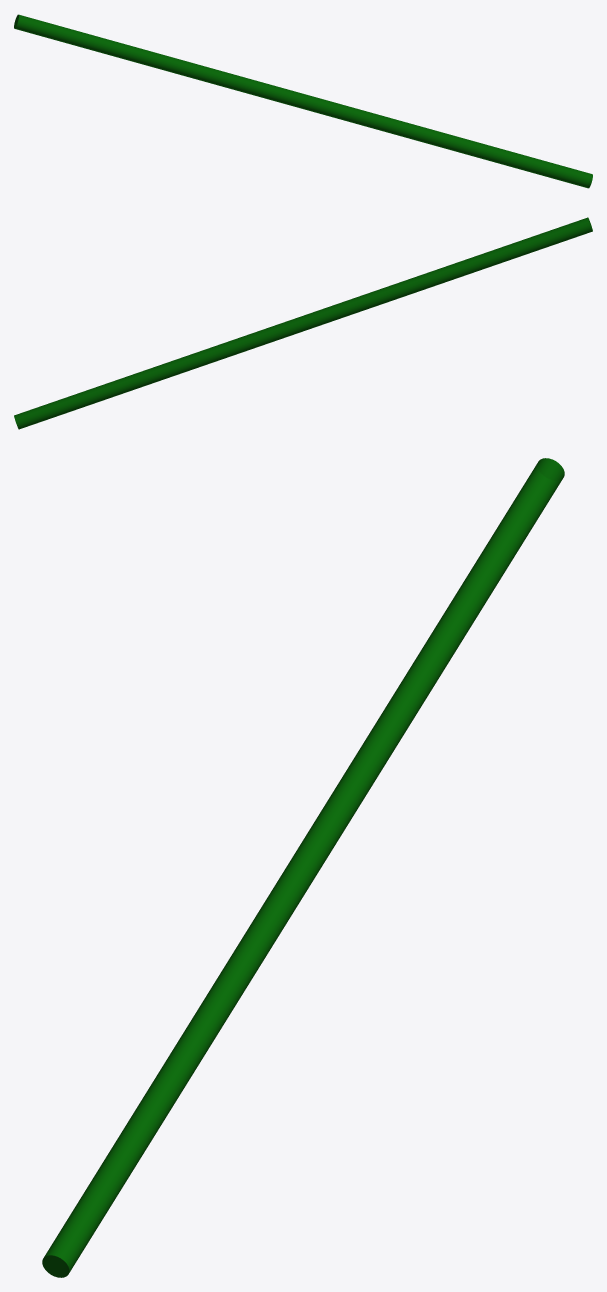
The model's file is Event_134586304_jet_1.fbx.
3 views of the same model, one above another, from view 1: azimuth 30°, elevation 25°; view 2: azimuth 210°, elevation 25°; view 3: azimuth 270°, elevation 25° (orthographic). The views are drawn at different scales.
Visible parts, largest first — view 1: Model; view 2: Model; view 3: Model.
Boxes of the visible parts, box(x1,y1,x2,y2) form: Model: box(14, 14, 592, 188); Model: box(14, 217, 592, 429); Model: box(42, 458, 564, 1277).
Size of the model in its own units: 1.41 by 0.5656 by 0.6985.
